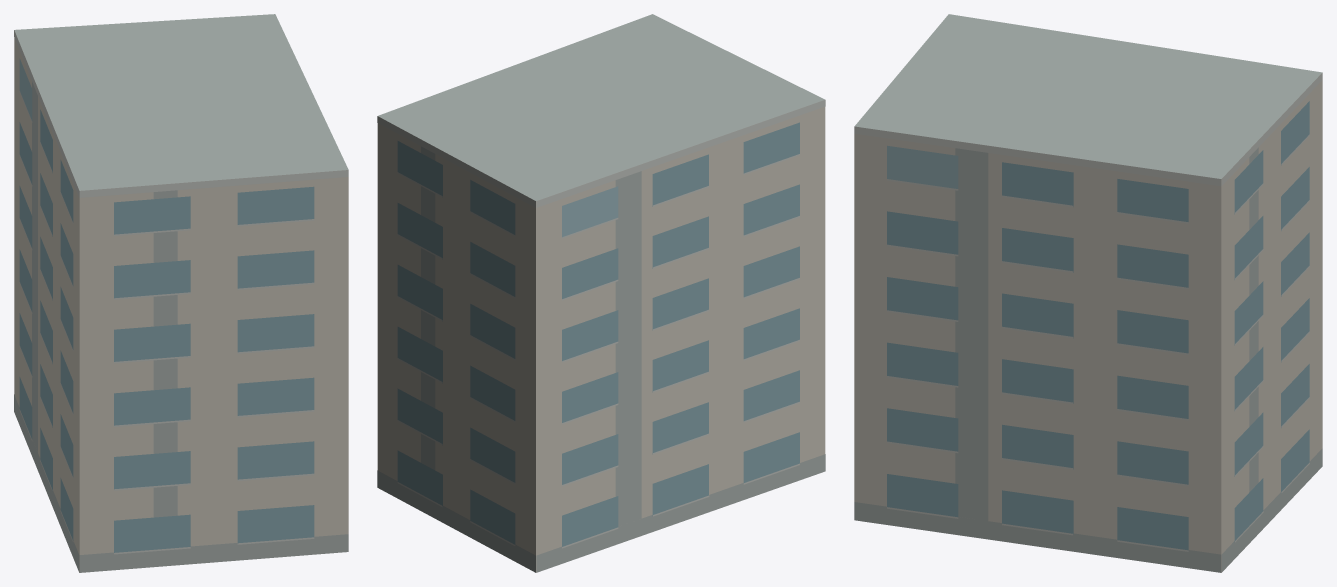
The model's file is survey-upis-33000031.glb.
The picture shows the model from 3 angles, left to right: view 1: azimuth 30°, elevation 25°; view 2: azimuth 150°, elevation 25°; view 3: azimuth 270°, elevation 25°; orthographic projection. The views are drawn at different scales.
Visible parts, largest first — view 1: survey-upis-33000031.tmp; view 2: survey-upis-33000031.tmp; view 3: survey-upis-33000031.tmp.
Part boxes in pixels (x1,y1,x2,y2): survey-upis-33000031.tmp: (14,14,348,572); survey-upis-33000031.tmp: (377,14,825,572); survey-upis-33000031.tmp: (854,14,1322,572).
Bounding box in the file's own units: 11.92 × 13.25 × 14.29.
